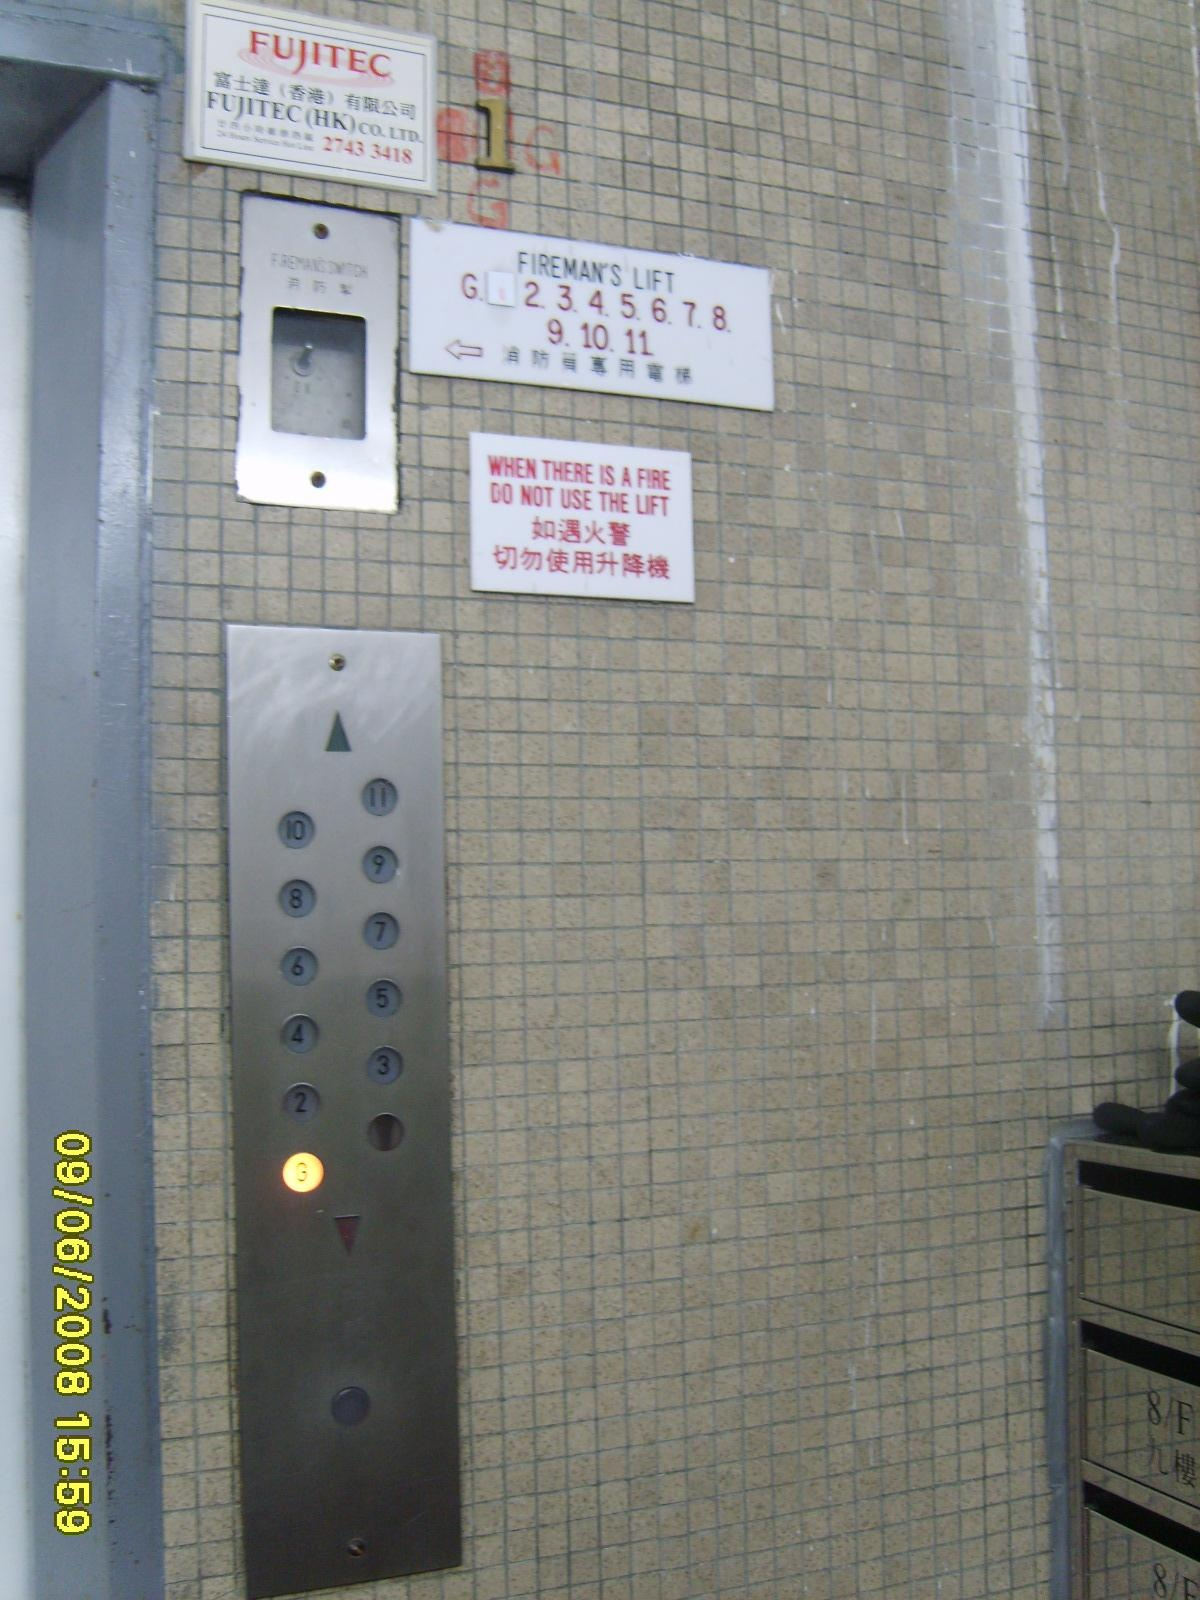10: (276, 809, 318, 850)
11: (359, 779, 398, 816)
2: (281, 1082, 324, 1125)
3: (364, 1044, 406, 1087)
4: (277, 1014, 320, 1054)
5: (363, 978, 402, 1018)
6: (279, 945, 321, 988)
7: (362, 910, 402, 952)
8: (276, 876, 316, 918)
9: (361, 844, 400, 884)
G: (281, 1149, 326, 1194)
down: (326, 1211, 368, 1265)
empty: (330, 1383, 372, 1430)
unknown: (366, 1111, 405, 1154)
up: (316, 703, 358, 757)
